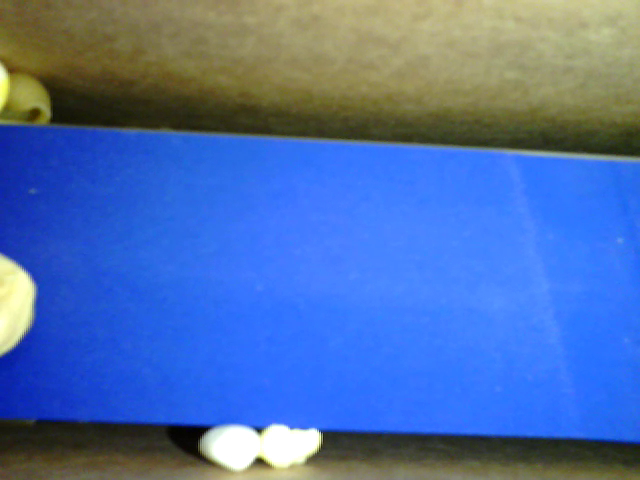shell: (2, 73, 55, 129)
